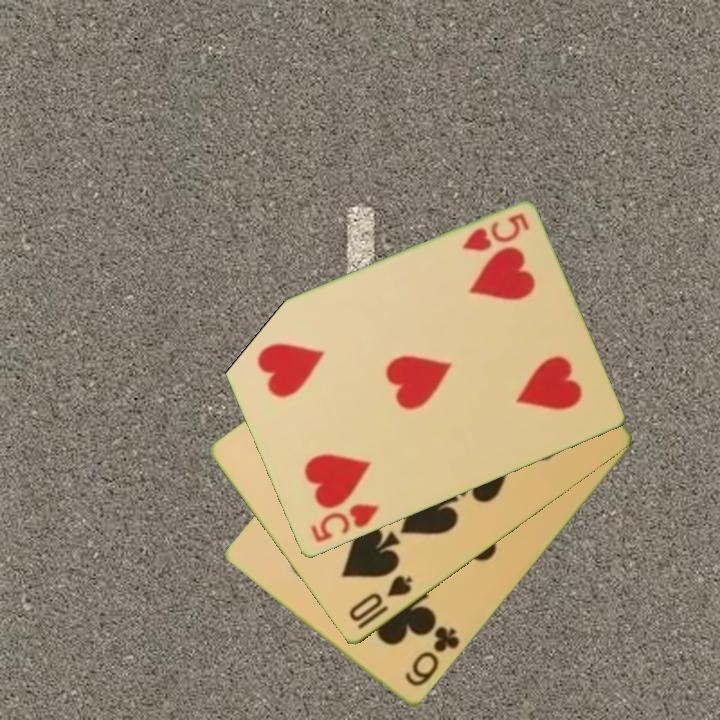10s: (345, 572, 416, 626)
5h: (306, 501, 382, 546), (458, 210, 533, 255)
6c: (401, 623, 463, 690)
